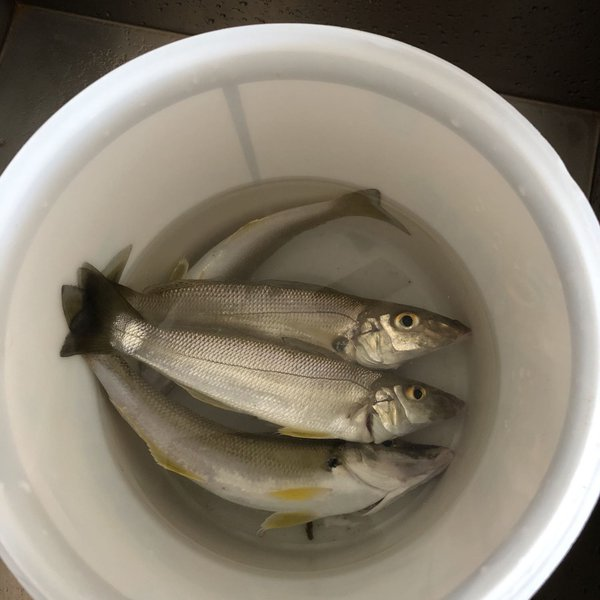kiss: (77, 270, 469, 451)
